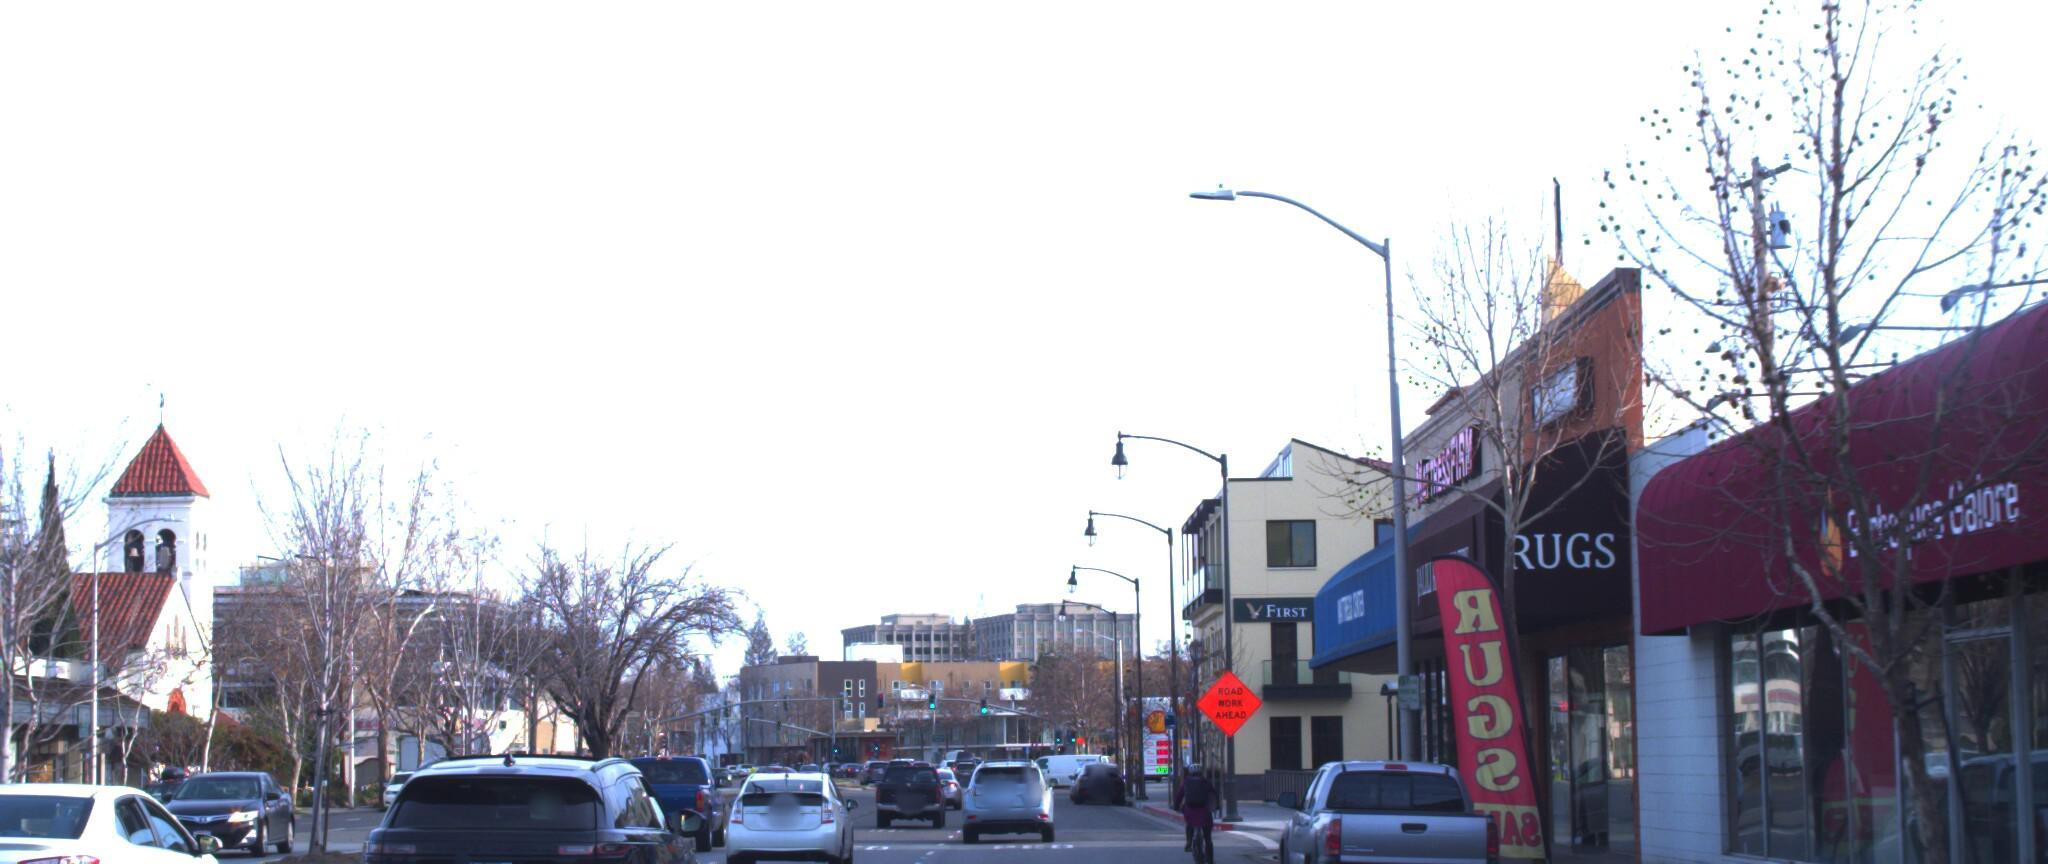bicycle: (1147, 740, 1223, 864)
car: (327, 713, 709, 864), (1270, 747, 1507, 864), (0, 754, 246, 864), (705, 737, 846, 864), (602, 743, 730, 841), (951, 745, 1050, 834), (872, 745, 951, 820)
